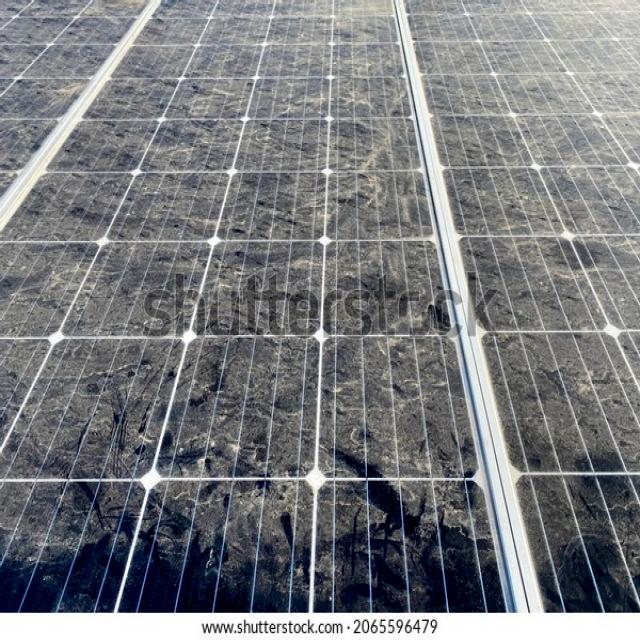dust: (111, 90, 402, 166), (326, 474, 482, 612), (164, 329, 318, 462), (0, 333, 146, 472), (144, 490, 306, 613), (499, 328, 640, 460), (322, 346, 458, 472), (524, 476, 640, 612), (0, 486, 120, 608), (160, 14, 393, 70), (36, 162, 197, 240), (446, 98, 640, 160), (474, 244, 632, 319), (418, 18, 640, 68), (228, 176, 426, 230), (83, 238, 203, 322), (0, 19, 123, 90), (455, 178, 633, 226), (212, 238, 319, 316), (346, 232, 434, 321), (0, 231, 50, 320)
